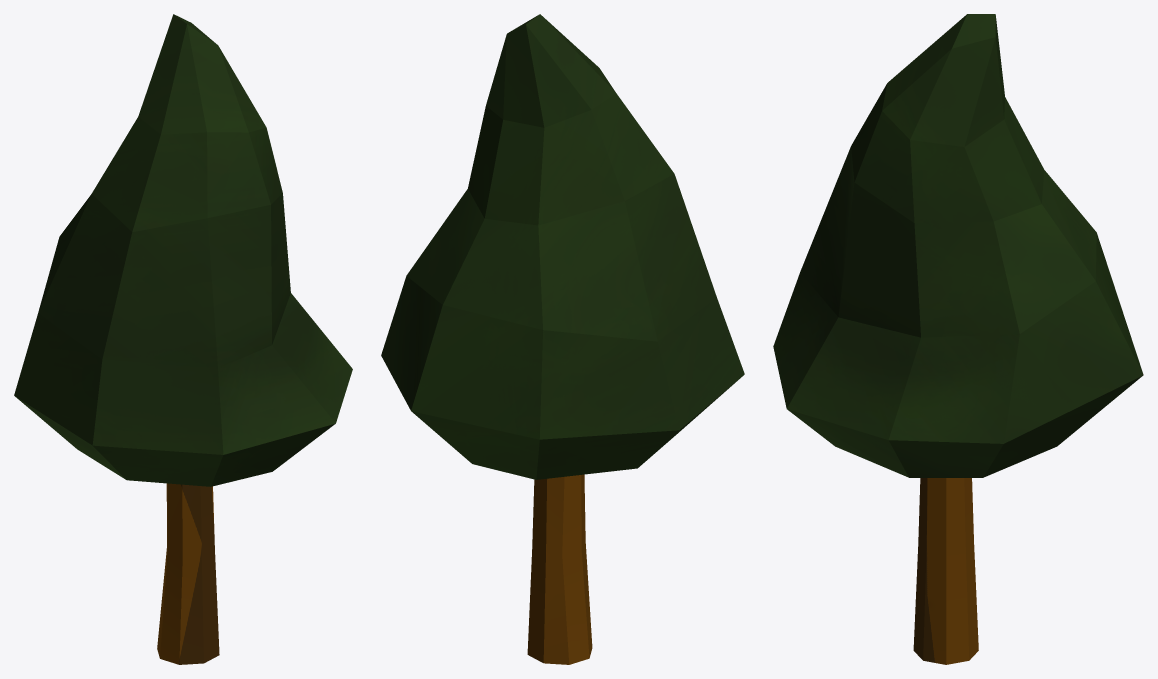
Rendered from tree_01_exp 1.fbx.
3 views of the same model, side by side, from view 1: azimuth 30°, elevation 25°; view 2: azimuth 150°, elevation 25°; view 3: azimuth 270°, elevation 25° (orthographic). The views are drawn at different scales.
Parts seen in each view (by area): view 1: tree_01; view 2: tree_01; view 3: tree_01.
Boxes of the visible parts, box(x1,y1,x2,y2) form: tree_01: box(14, 14, 352, 664); tree_01: box(381, 14, 744, 664); tree_01: box(773, 14, 1143, 664).
Size of the model in its own units: 7.89 by 16.15 by 8.45.
